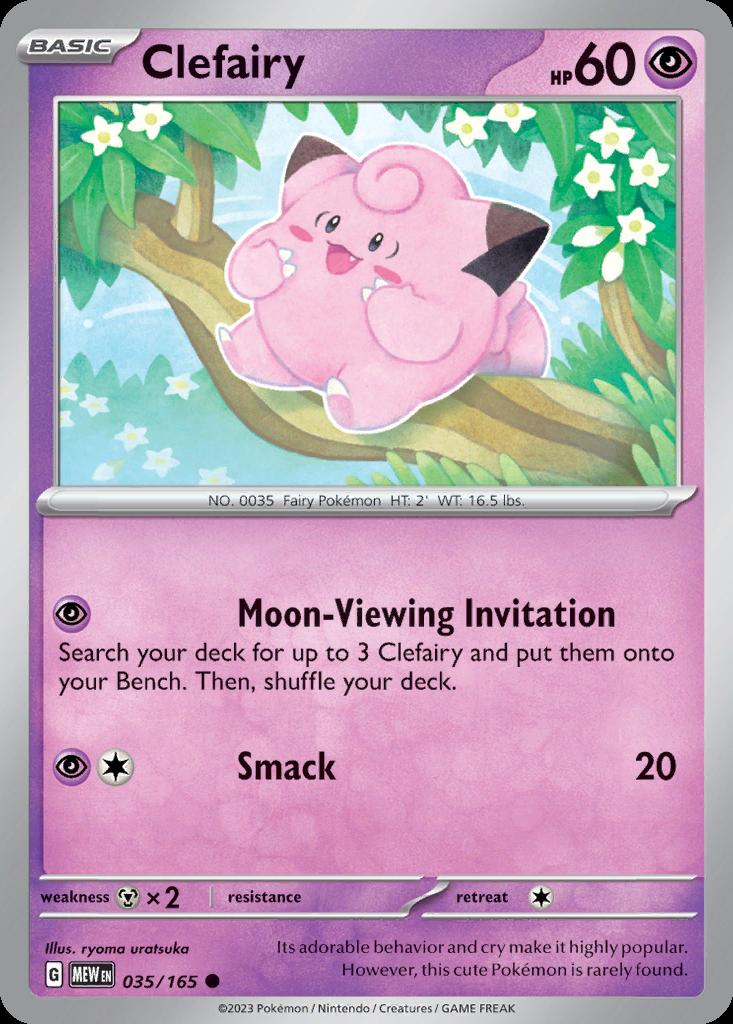card: (3, 4, 733, 1024)
hp: (539, 26, 707, 94)
name: (134, 29, 333, 91)
set num: (124, 967, 204, 997)
set symbol: (66, 959, 120, 993)
